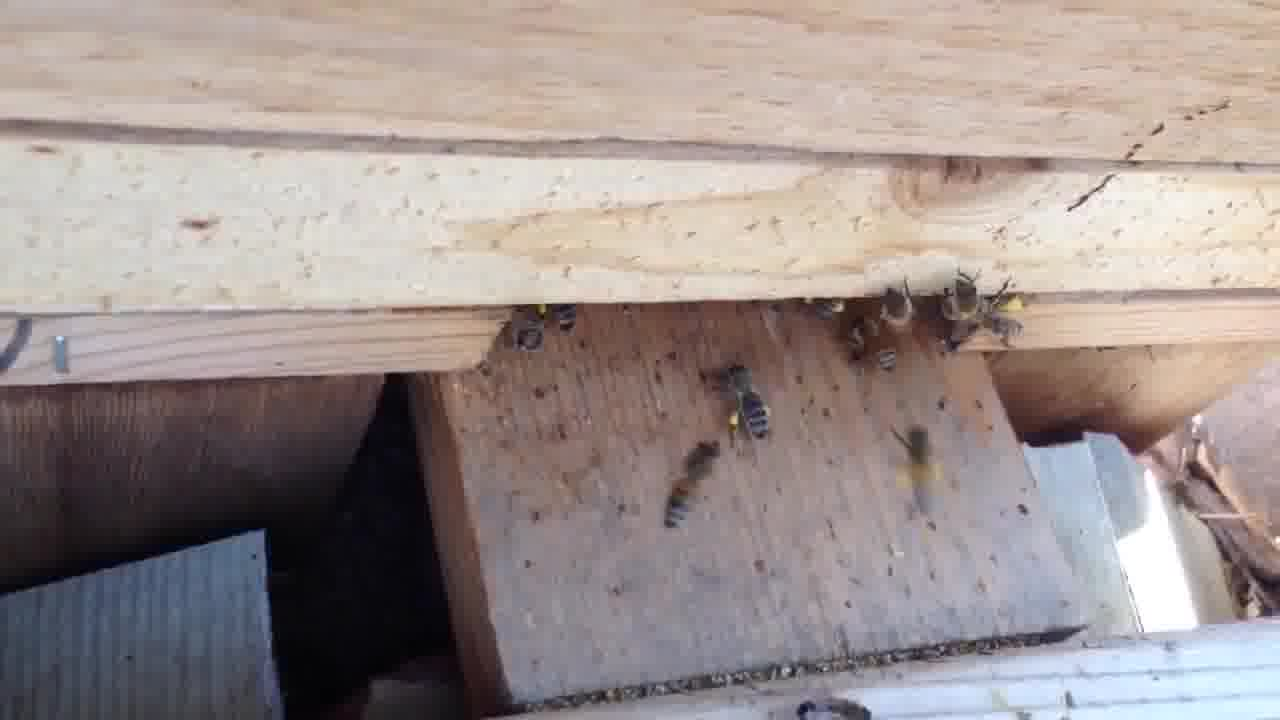pollen: (888, 412, 952, 524), (717, 363, 773, 442)
